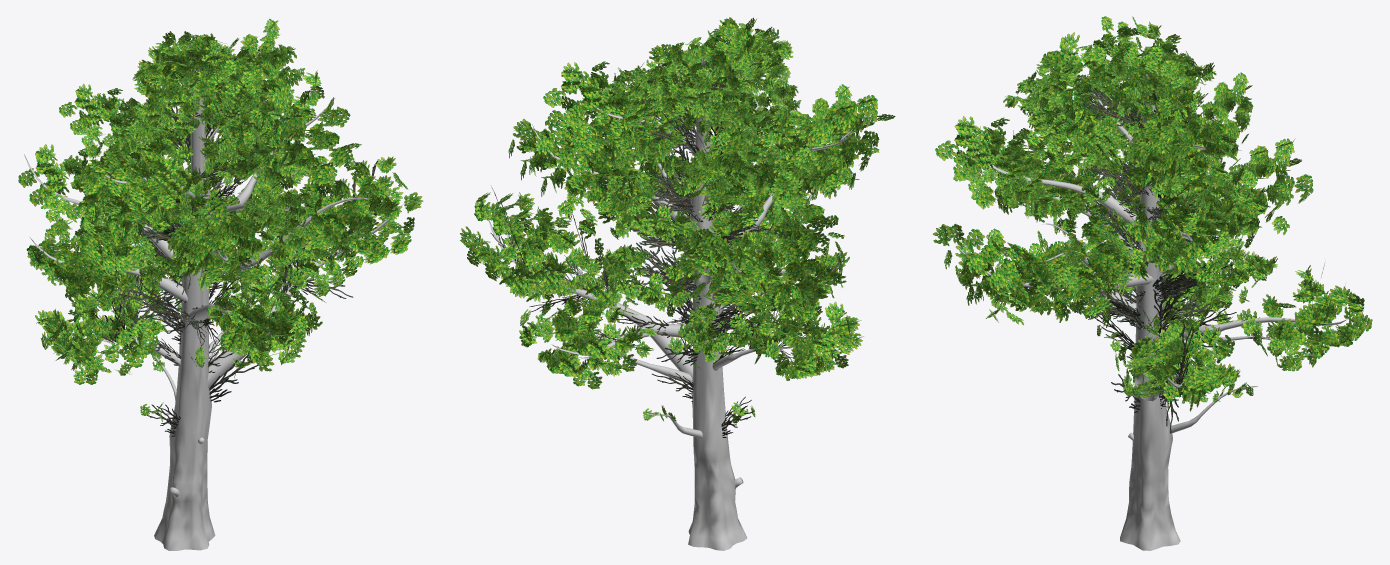
The model's file is tree_basic2.obj.
3 views of the same model, side by side, from view 1: azimuth 30°, elevation 25°; view 2: azimuth 150°, elevation 25°; view 3: azimuth 270°, elevation 25° (orthographic).
Visible parts, largest first — view 1: Tree_0.010, Tree_1.020, Tree_1.022, Tree_1.026, Tree_1.015, Tree_1.024, Tree_1.021, Tree_1.017, Tree_1.035, Tree_1.019, Tree_1.030, Tree_1.018 (+12 smaller); view 2: Tree_1.017, Tree_0.010, Tree_1.026, Tree_1.027, Tree_1.018, Tree_1.016, Tree_1.019, Tree_1.022, Tree_1.015, Tree_1.034, Tree_1.032, Tree_1.030 (+14 smaller); view 3: Tree_0.010, Tree_1.021, Tree_1.017, Tree_1.018, Tree_1.016, Tree_1.020, Tree_1.027, Tree_1.025, Tree_1.024, Tree_1.035, Tree_1.031, Tree_1.033 (+12 smaller).
Boxes of the visible parts, <box> form: Tree_0.010: <box>154,59,215,550</box>; Tree_1.020: <box>258,143,402,266</box>; Tree_1.022: <box>26,220,167,311</box>; Tree_1.026: <box>72,136,193,228</box>; Tree_1.015: <box>35,280,158,384</box>; Tree_1.024: <box>161,197,274,294</box>; Tree_1.021: <box>207,279,325,371</box>; Tree_1.017: <box>246,177,423,312</box>; Tree_1.035: <box>188,52,281,172</box>; Tree_1.019: <box>18,144,161,266</box>; Tree_1.030: <box>59,84,183,173</box>; Tree_1.018: <box>209,70,350,202</box>; Tree_1.017: <box>460,192,637,323</box>; Tree_0.010: <box>688,54,747,550</box>; Tree_1.026: <box>743,95,895,206</box>; Tree_1.027: <box>543,61,692,173</box>; Tree_1.018: <box>508,110,655,238</box>; Tree_1.016: <box>519,296,657,389</box>; Tree_1.019: <box>658,211,772,307</box>; Tree_1.022: <box>725,229,849,326</box>; Tree_1.015: <box>747,295,863,380</box>; Tree_1.034: <box>670,17,759,125</box>; Tree_1.032: <box>657,55,776,160</box>; Tree_1.030: <box>669,139,760,213</box>; Tree_0.010: <box>1120,70,1180,550</box>; Tree_1.021: <box>933,223,1084,325</box>; Tree_1.017: <box>1115,305,1237,411</box>; Tree_1.018: <box>1127,183,1250,290</box>; Tree_1.016: <box>1218,263,1372,371</box>; Tree_1.020: <box>1026,219,1148,327</box>; Tree_1.027: <box>1125,104,1238,199</box>; Tree_1.025: <box>953,136,1099,219</box>; Tree_1.024: <box>935,116,1092,236</box>; Tree_1.035: <box>1003,44,1129,128</box>; Tree_1.031: <box>1027,102,1129,177</box>; Tree_1.033: <box>1103,38,1195,152</box>.
Bounding box in the file's own units: 20.42 × 25.74 × 20.09.
